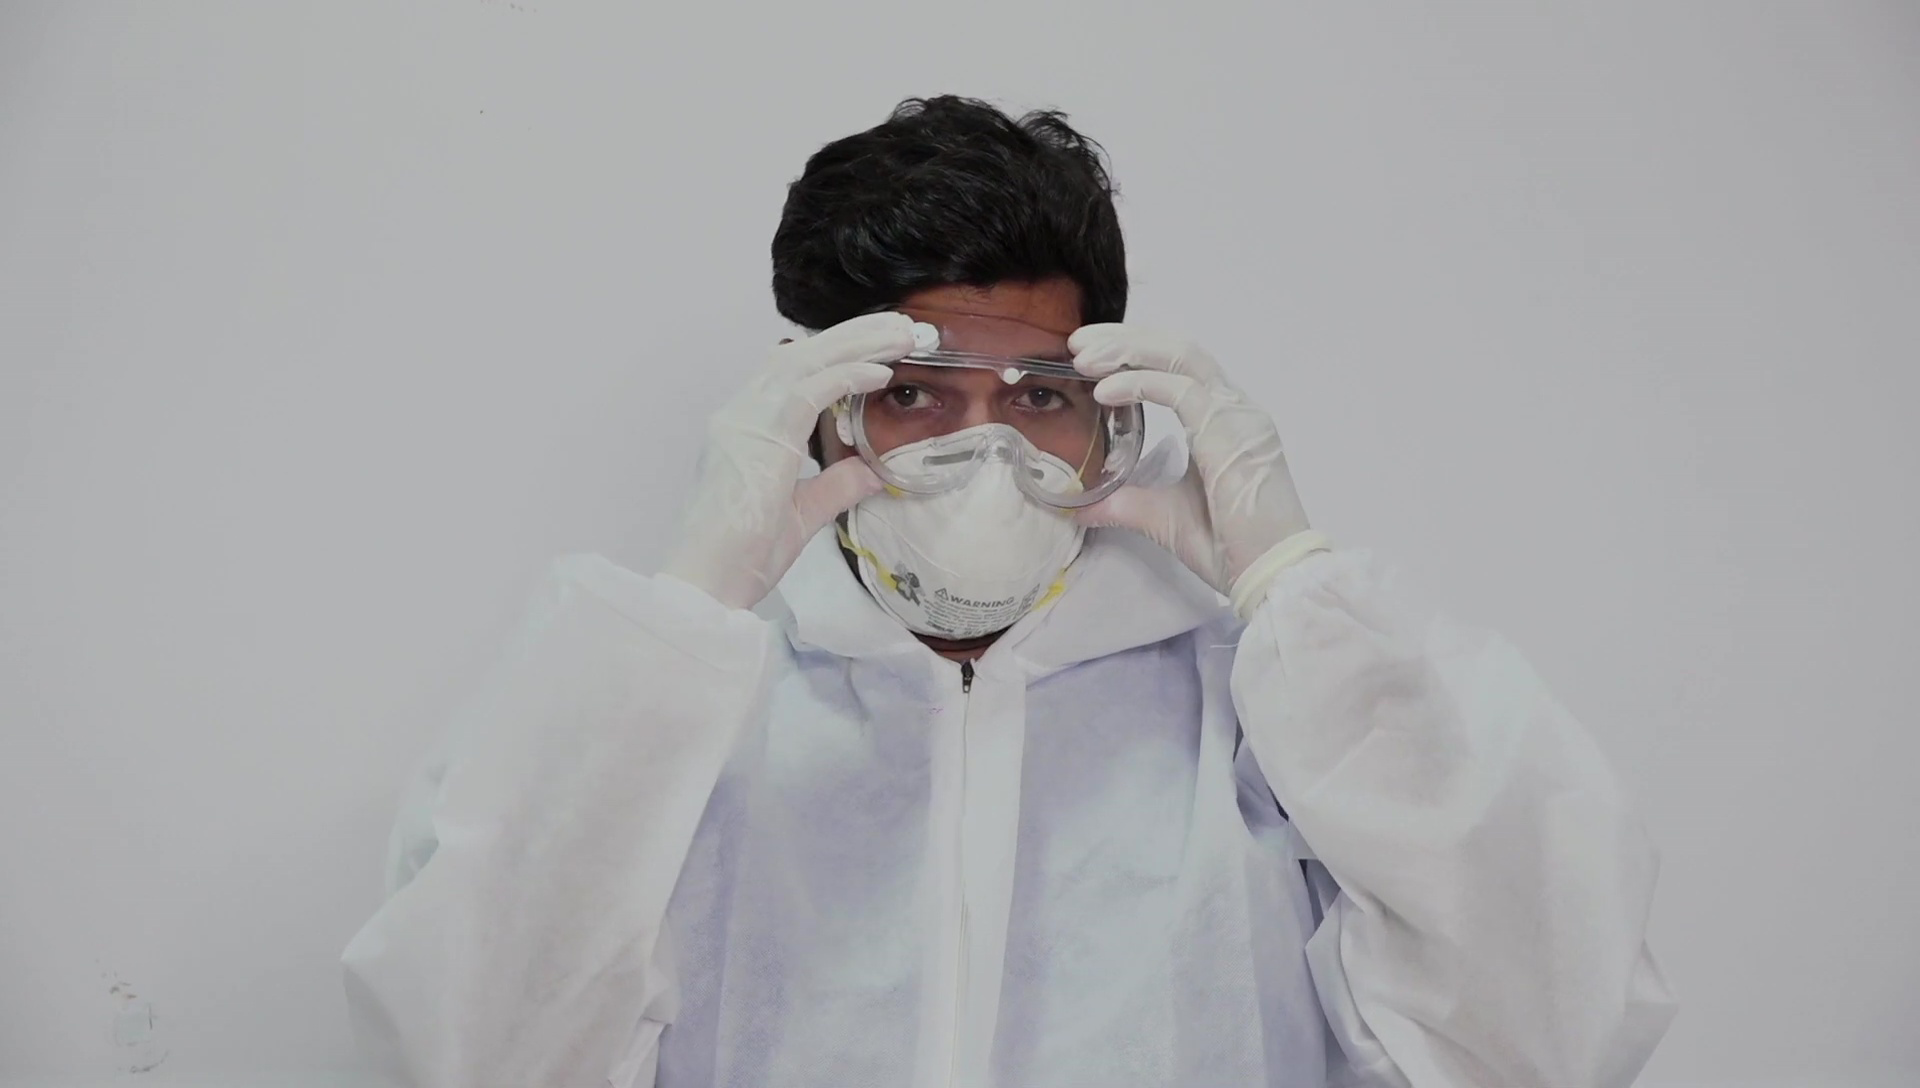Coverall: (336, 551, 1668, 1088)
Gloves: (669, 309, 916, 619), (1069, 320, 1309, 596)
Goggles: (837, 309, 1149, 517)
Mask: (843, 384, 1104, 636)
